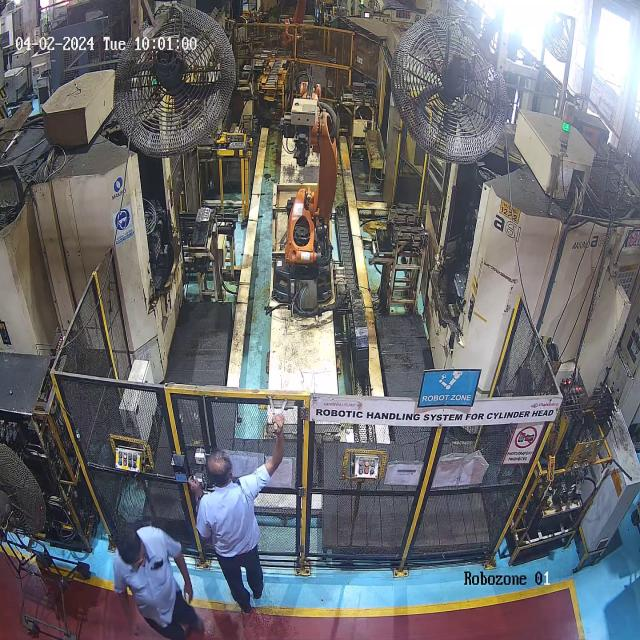person: (187, 411, 287, 612), (108, 524, 186, 640)
